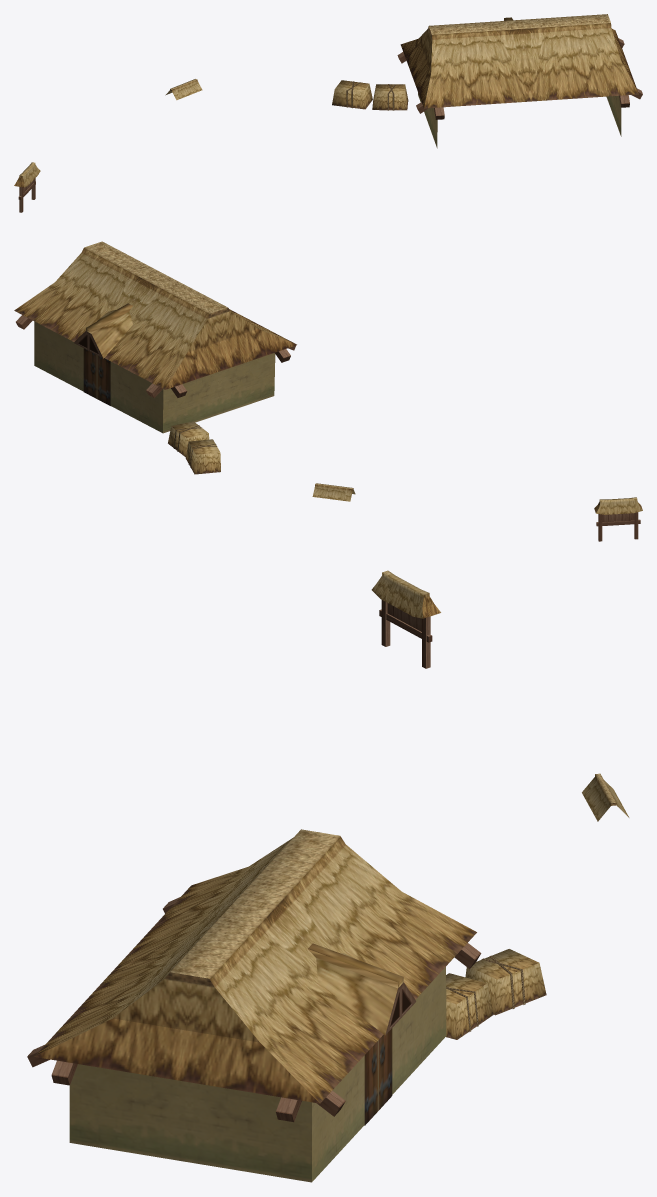
File: Area_11_29.fbx
3 views of the same model, one above another, from view 1: azimuth 30°, elevation 25°; view 2: azimuth 150°, elevation 25°; view 3: azimuth 270°, elevation 25° (orthographic). The views are drawn at different scales.
Parts seen in each view (by area): view 1: Area_11_29; view 2: Area_11_29; view 3: Area_11_29.
Boxes of the visible parts, <box> form: Area_11_29: <box>14,14,642,212</box>; Area_11_29: <box>14,241,642,541</box>; Area_11_29: <box>27,570,629,1182</box>.
Bounding box in the file's own units: 4795 × 770 × 2139.
